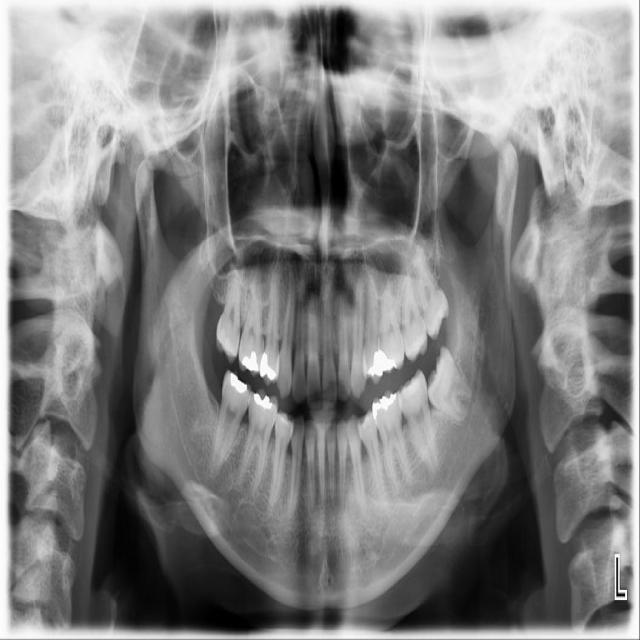Filling: (371, 392, 398, 419), (257, 352, 277, 383), (227, 373, 251, 397), (379, 349, 401, 373), (241, 351, 260, 375), (368, 349, 384, 377), (251, 393, 274, 407)
impacted tooth: (427, 347, 475, 420)
